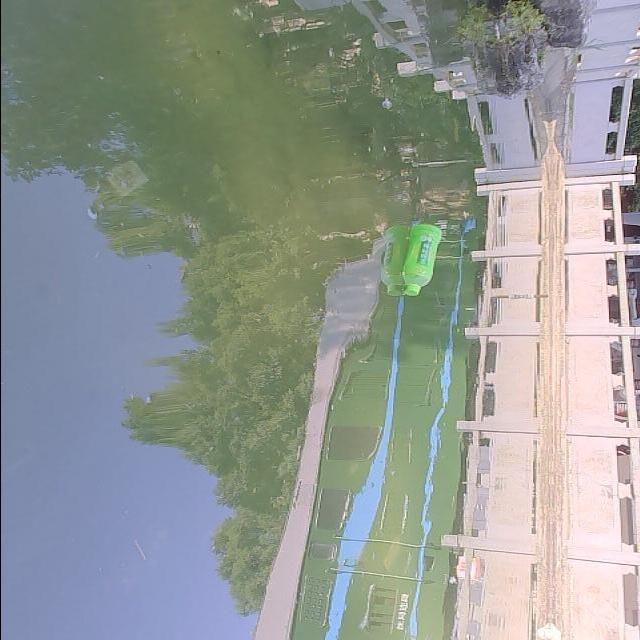Bottle: (397, 220, 443, 298)
